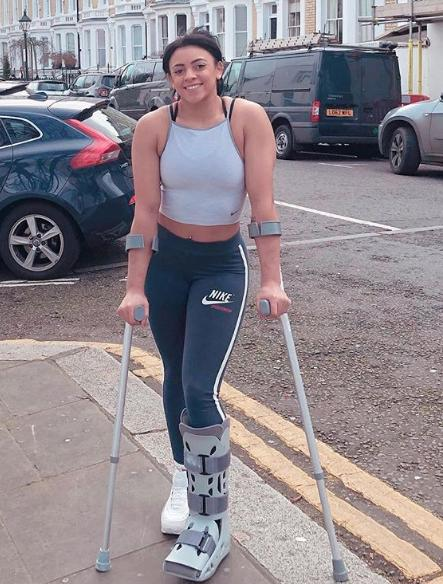crutches: (95, 25, 350, 583)
